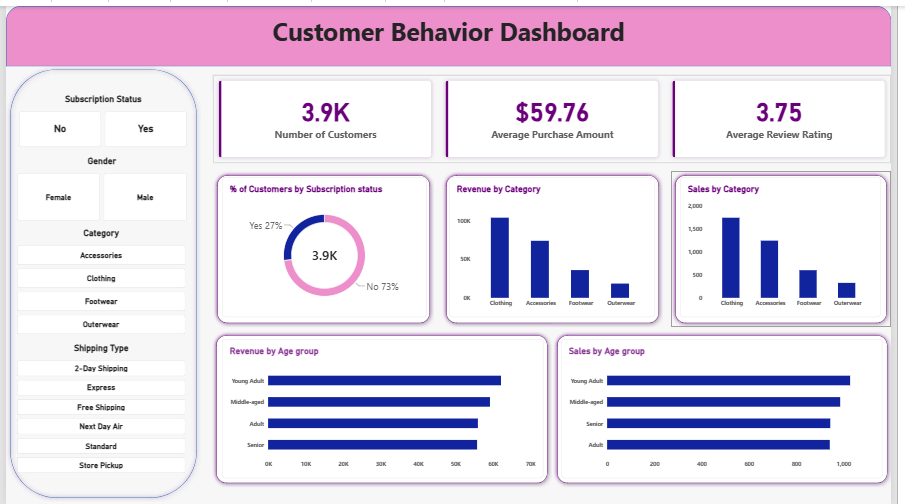

Layout of this report page (visuals, bound fields, positions):
{"tool":"powerbi","page":{"name":"Page 1","canvas":[1920,1080],"ordinal":0},"visuals":[{"type":"cardVisual","fields":{"Data":["public customer.Number of Customers","public customer.Average Purchase Amount","public customer.Average Review Rating"]},"box":[449,149.7,1471,191.8],"z":0},{"type":"shape","box":[0,0,1920,131],"z":1000},{"type":"textbox","box":[0,16.4,1920,114.6],"z":2000},{"type":"shape","box":[449,357.8,479.4,339.1],"z":3000},{"type":"donutChart","title":"% of Customers by Subscription status","fields":{"Category":["public customer.subscription_status"],"Y":["CountNonNull(public customer.customer_id)"]},"box":[467.7,371.8,444.3,304],"z":4000},{"type":"shape","box":[944.8,357.8,479.4,339.1],"z":5000},{"type":"shape","box":[1442.9,357.8,477.1,339.1],"z":6000},{"type":"clusteredColumnChart","title":"Revenue by Category","fields":{"Category":["public customer.category"],"Y":["Sum(public customer.purchase_amount)"]},"box":[961.2,371.8,446.7,304],"z":7000},{"type":"clusteredColumnChart","title":"Sales by Category","fields":{"Category":["public customer.category"],"Y":["CountNonNull(public customer.customer_id)"]},"box":[1461.6,371.8,435,304],"z":8000},{"type":"shape","box":[0,129,423,948],"z":9000},{"type":"advancedSlicerVisual","title":"Subscription Status","fields":{"Values":["public customer.subscription_status"]},"box":[27.6,191.3,365.7,114.8],"z":10000},{"type":"advancedSlicerVisual","title":"Gender","fields":{"Values":["public customer.gender"]},"box":[23.9,325.3,368.7,141],"z":11000},{"type":"advancedSlicerVisual","title":"Category","fields":{"Values":["public customer.category"]},"box":[23.4,480.5,365.7,233.9],"z":12000},{"type":"advancedSlicerVisual","title":"Shipping Type","fields":{"Values":["public customer.shipping_type"]},"box":[23.4,731.3,365.7,284.9],"z":13000},{"type":"shape","box":[446.7,704.8,736.7,339.1],"z":13002},{"type":"shape","box":[1185.7,703.9,734.3,339.1],"z":13003},{"type":"clusteredBarChart","title":"Sales by Age group","fields":{"Category":["public customer.age_group"],"Y":["CountNonNull(public customer.customer_id)"]},"box":[1204.4,722.6,696.9,301.7],"z":13004},{"type":"clusteredBarChart","title":"Revenue by Age group","fields":{"Category":["public customer.age_group"],"Y":["Sum(public customer.purchase_amount)"]},"box":[468.4,722.2,696.9,301.7],"z":13005}]}

Visuals, with their boxes in screenshot pixels (x1, y1, x2, y2), scaled from the page's 1920x1080 canvas onto the 905x504 screenshot:
cardVisual - public customer.Number of Customers x public customer.Average Purchase Amount: x1=212, y1=70, x2=904, y2=159
shape: x1=0, y1=0, x2=904, y2=61
textbox: x1=0, y1=8, x2=904, y2=61
shape: x1=212, y1=167, x2=438, y2=325
"% of Customers by Subscription status" donutChart: x1=220, y1=174, x2=430, y2=315
shape: x1=445, y1=167, x2=671, y2=325
shape: x1=680, y1=167, x2=904, y2=325
"Revenue by Category" clusteredColumnChart: x1=453, y1=174, x2=664, y2=315
"Sales by Category" clusteredColumnChart: x1=689, y1=174, x2=894, y2=315
shape: x1=0, y1=60, x2=199, y2=503
"Subscription Status" advancedSlicerVisual: x1=13, y1=89, x2=185, y2=143
"Gender" advancedSlicerVisual: x1=11, y1=152, x2=185, y2=218
"Category" advancedSlicerVisual: x1=11, y1=224, x2=183, y2=333
"Shipping Type" advancedSlicerVisual: x1=11, y1=341, x2=183, y2=474
shape: x1=211, y1=329, x2=558, y2=487
shape: x1=559, y1=328, x2=904, y2=487
"Sales by Age group" clusteredBarChart: x1=568, y1=337, x2=896, y2=478
"Revenue by Age group" clusteredBarChart: x1=221, y1=337, x2=549, y2=478
